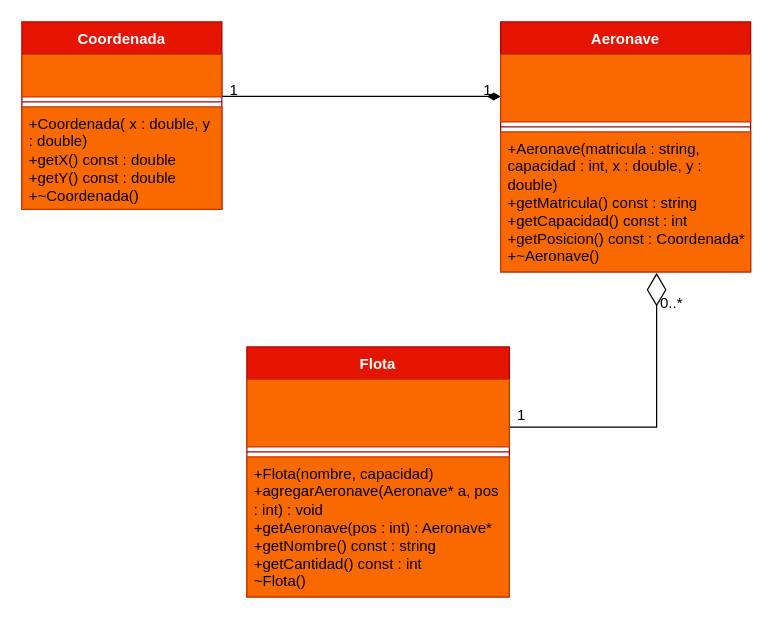
Image size: 773x623. Some labels were removed from this diagram. Each missing label, with the box of its shape:
-matricula : string -capacidad : int -posicion : Coordenada*: (499, 53, 751, 122)
-nombre : string -naves : Aeronave** -cantidad : int: (246, 378, 509, 447)
-x: double -y: double: (21, 53, 222, 97)
